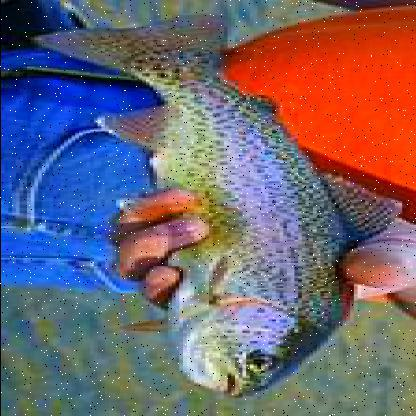fish: (37, 12, 401, 398)
